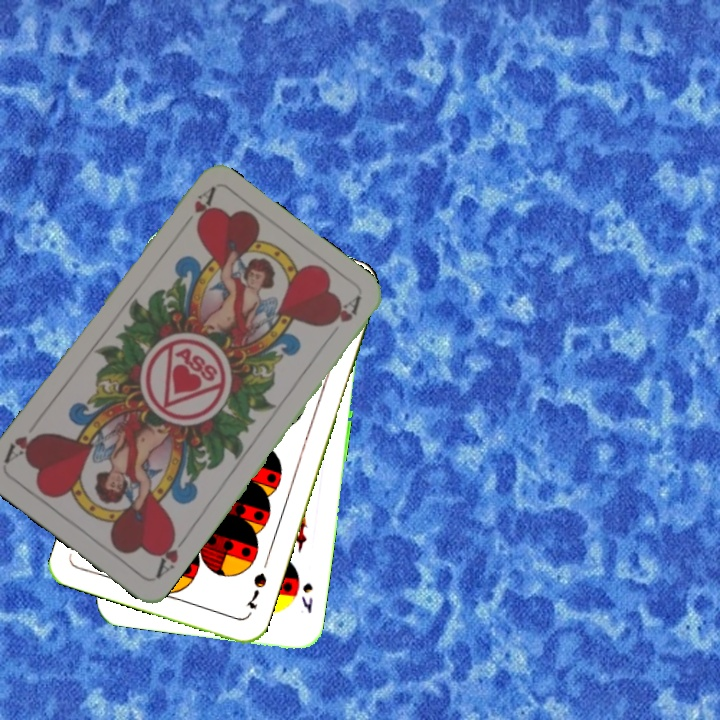HA: (151, 528, 192, 582), (174, 184, 218, 234)
S7: (242, 568, 269, 612)
SK: (297, 579, 316, 617)
